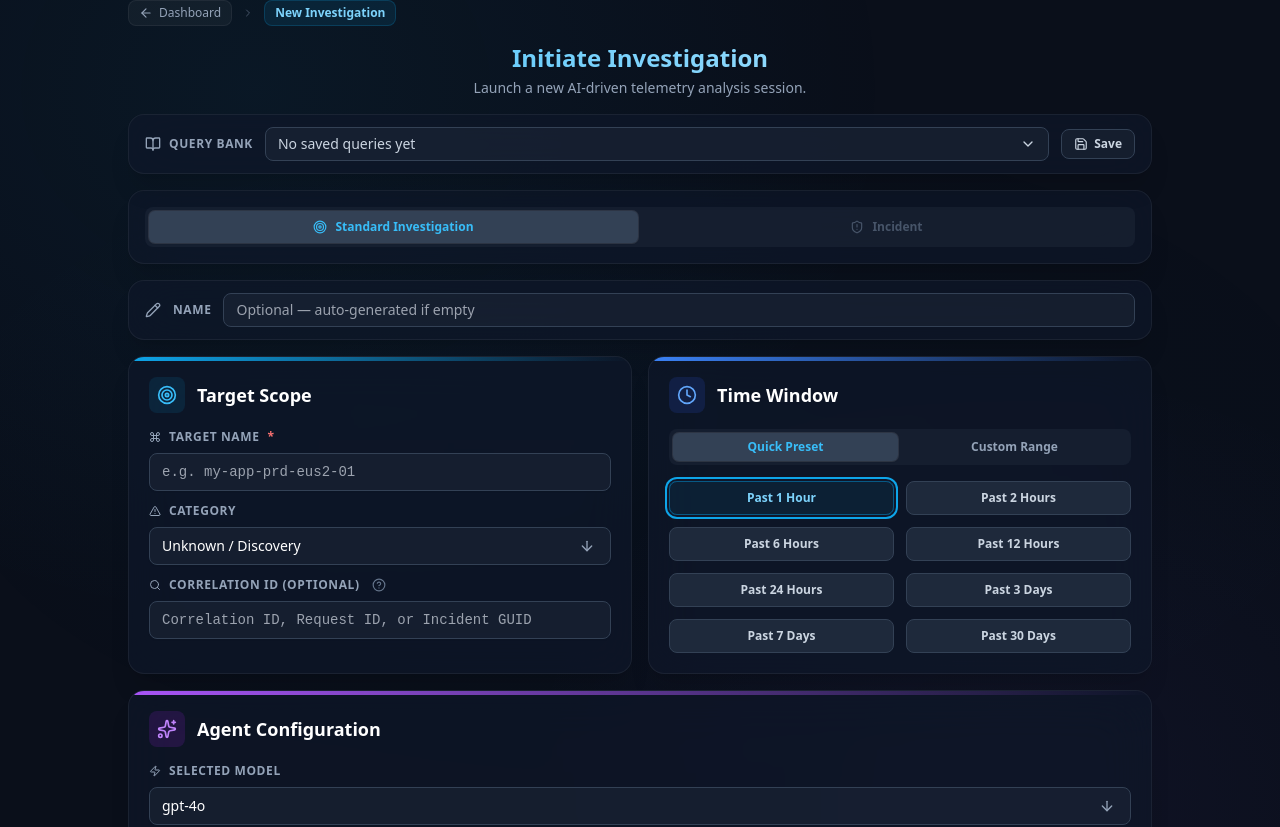
Test: NewInvestigation › validates start time input with valid ISO format
Expected: the heading "Initiate Investigation" is shown, [128,42,1152,74]
Click the button "Custom Range" at (1014, 447), box [902,433,1127,461]
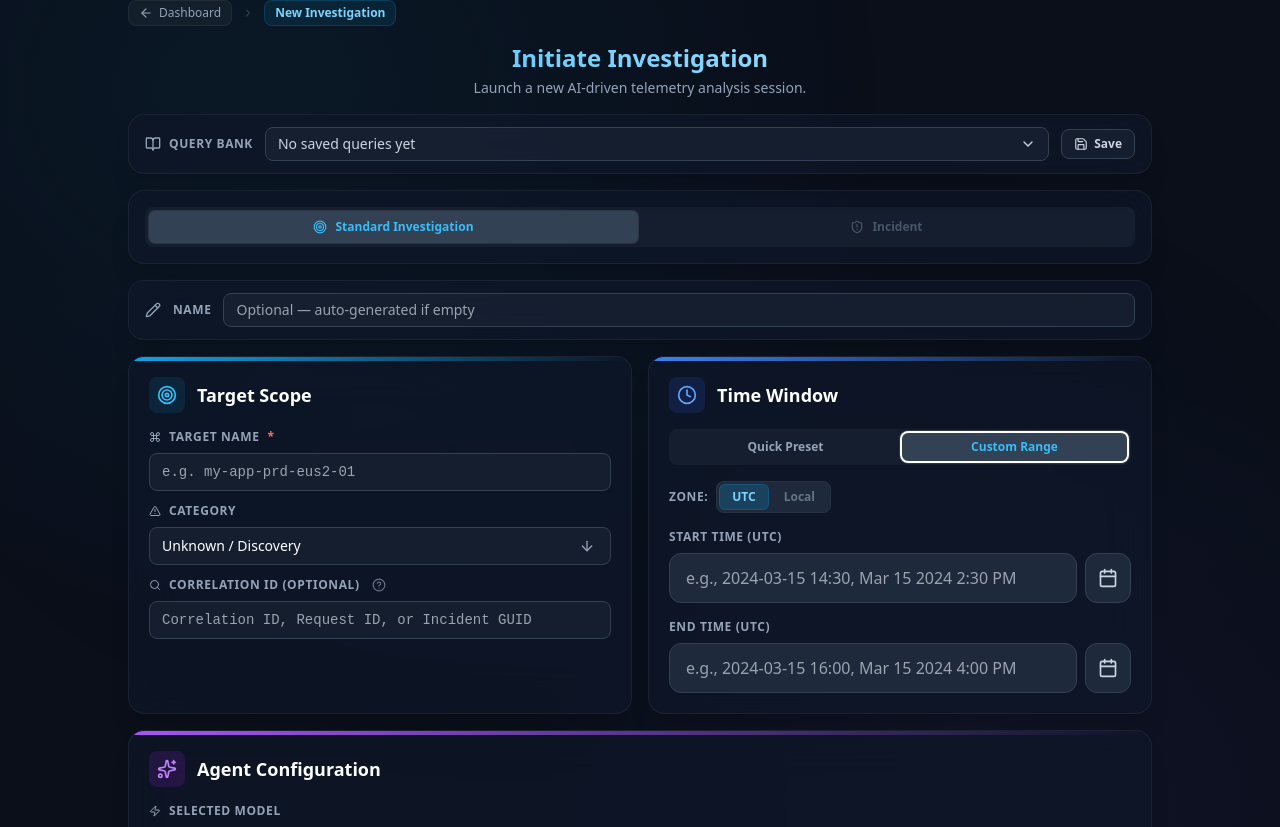
Expected: the field with placeholder "e.g., 2024-03-15 14:30, Mar 15 2024 2:30 PM" is shown
Type "2024-03-15T14:30:00" into the field with placeholder "e.g., 2024-03-15 14:30, Mar 15 2024 2:30 PM" at (873, 578), box [669,553,1077,603]
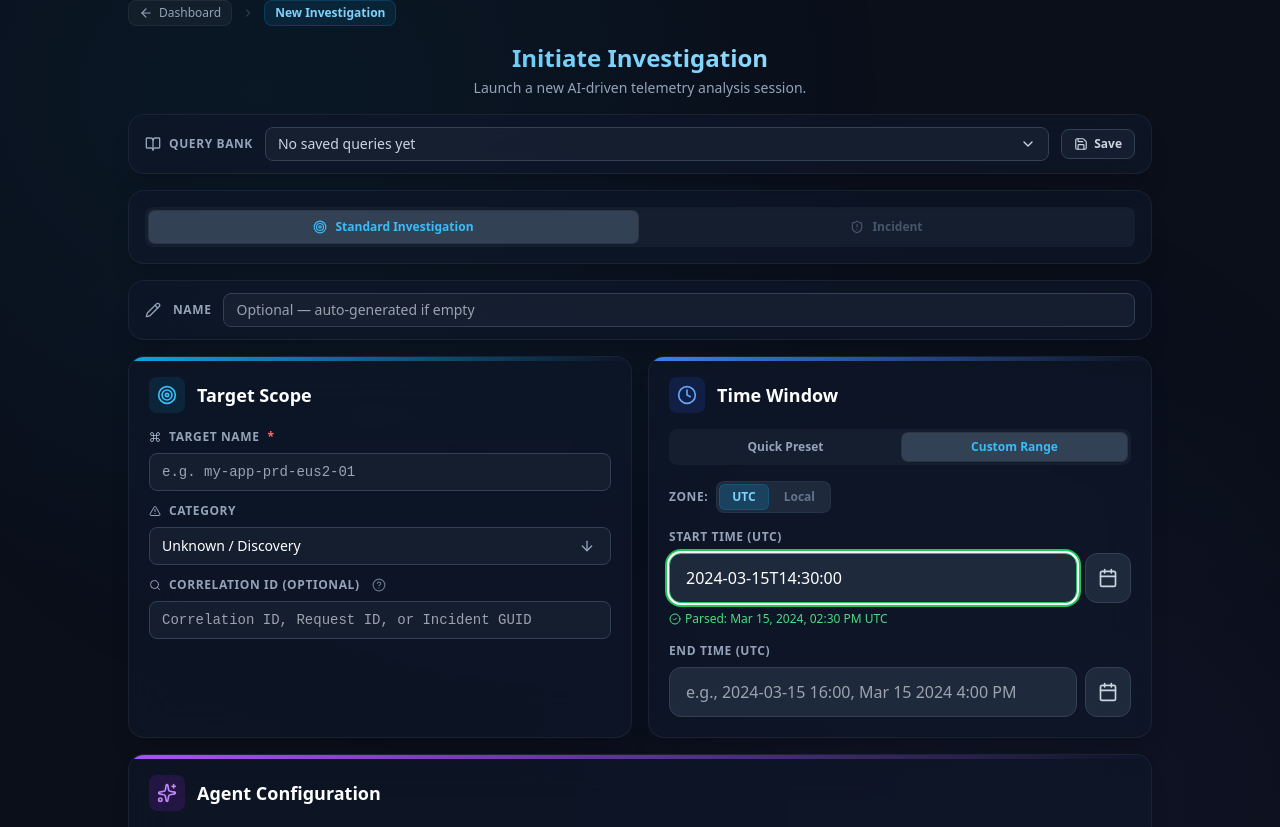
Expected: the text "Parsed: Mar 15, 2024, 02:30 PM UTC" is shown, [669,610,888,627]
